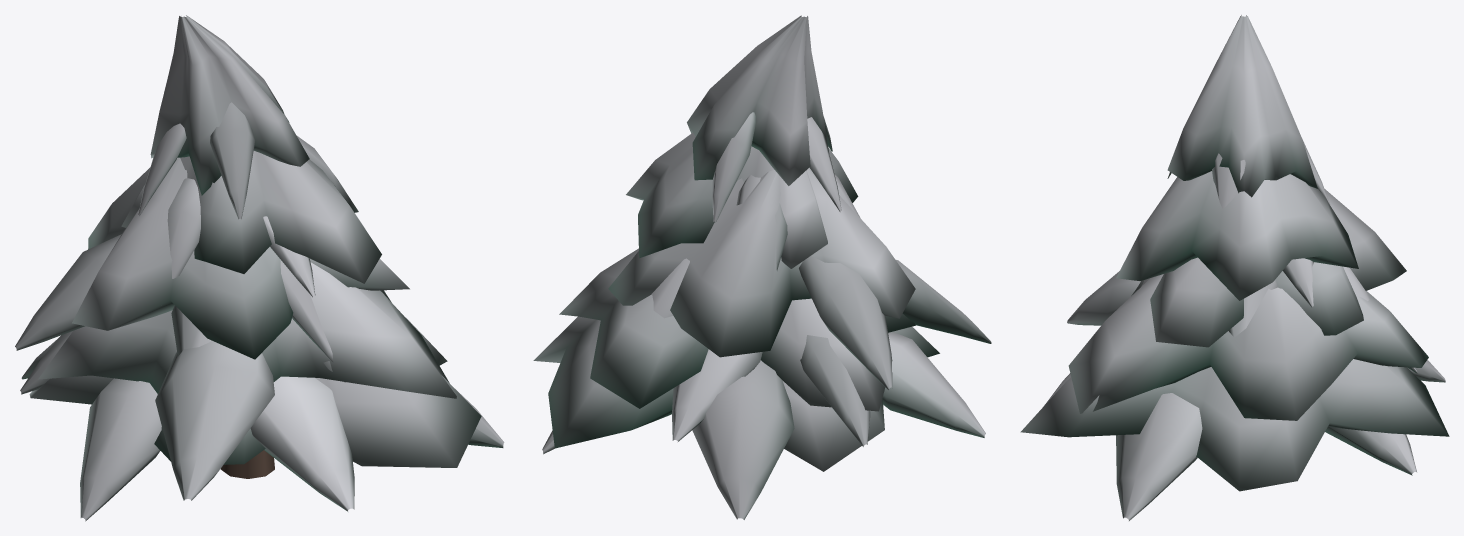
Rendered from winterbank-fir-near.glb.
The picture shows the model from 3 angles, left to right: view 1: azimuth 30°, elevation 25°; view 2: azimuth 150°, elevation 25°; view 3: azimuth 270°, elevation 25°; orthographic projection. The views are drawn at different scales.
Visible parts, largest first — view 1: Winterbank fir; view 2: Winterbank fir; view 3: Winterbank fir.
Part boxes in pixels (<box>): Winterbank fir: <box>15,15,504,521</box>; Winterbank fir: <box>533,15,991,519</box>; Winterbank fir: <box>1020,15,1449,520</box>.
Bounding box in the file's own units: 0.9196 × 1.01 × 0.9445.
